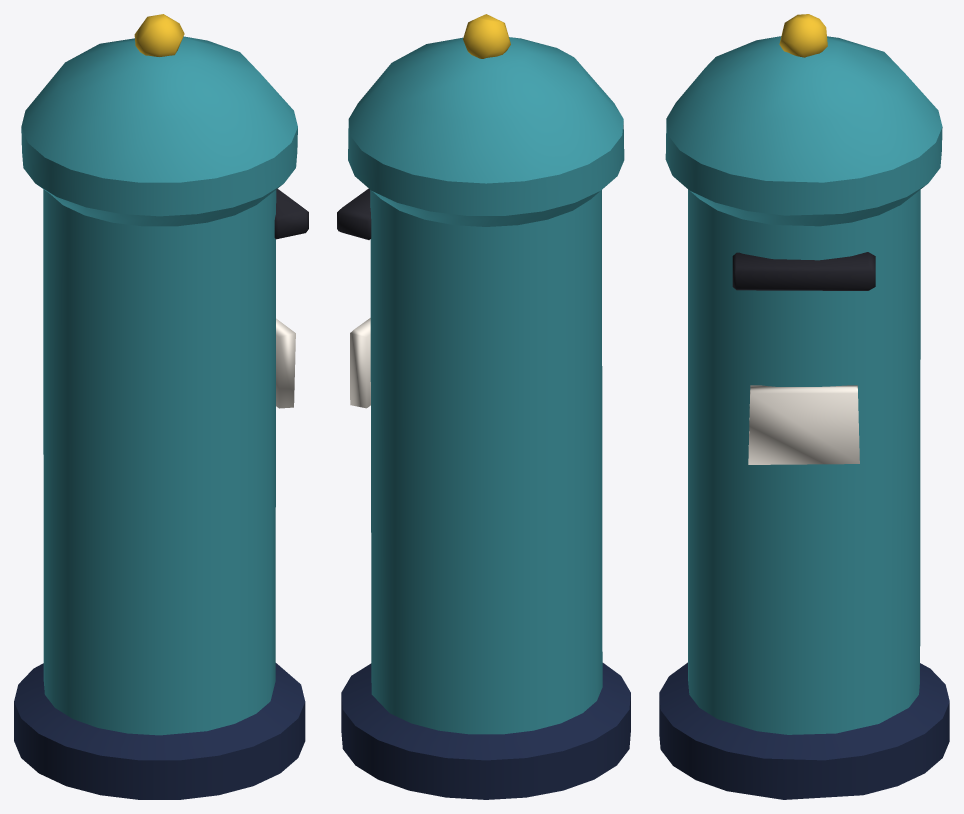
The model's file is mailbox.glb.
The picture shows the model from 3 angles, left to right: view 1: azimuth 30°, elevation 25°; view 2: azimuth 150°, elevation 25°; view 3: azimuth 270°, elevation 25°; orthographic projection.
Visible parts, largest first — view 1: mailbox; view 2: mailbox; view 3: mailbox.
Boxes of the visible parts, left/top/right/bottom form: mailbox: left=14, top=14, right=308, bottom=799; mailbox: left=337, top=14, right=630, bottom=799; mailbox: left=659, top=14, right=949, bottom=799.
Bounding box in the file's own units: 0.3976 × 1.09 × 0.3988.
1 material, 1 textured.
